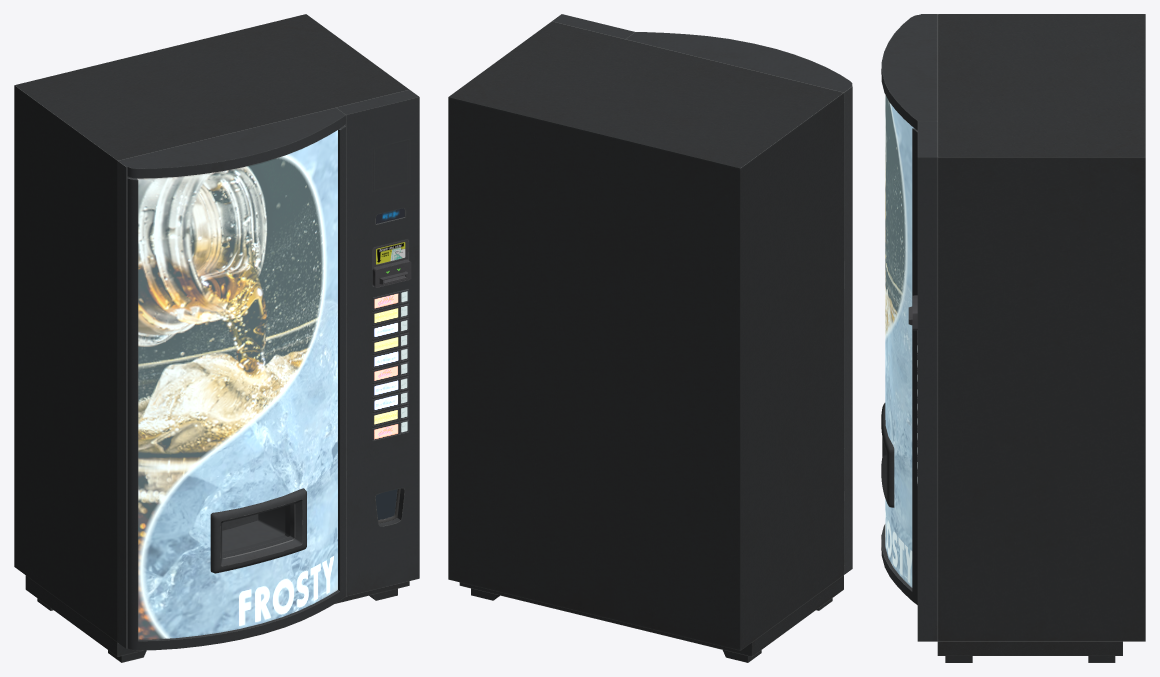
Rendered from vending_machine.glb.
The picture shows the model from 3 angles, left to right: view 1: azimuth 30°, elevation 25°; view 2: azimuth 150°, elevation 25°; view 3: azimuth 270°, elevation 25°; orthographic projection.
Visible parts, largest first — view 1: frontVendorDoor_lp, vendingMachineBody_lp, controlPanel_lp, drinkChute_lp, drinkSelections_lp, base_lp, billAcceptor_lp, changeDoor_lp; view 2: vendingMachineBody_lp, frontVendorDoor_lp, base_lp, controlPanel_lp; view 3: vendingMachineBody_lp, frontVendorDoor_lp, controlPanel_lp, base_lp, drinkChute_lp.
Part boxes in pixels (<box>): frontVendorDoor_lp: <box>117,107,345,650</box>; vendingMachineBody_lp: <box>14,14,408,642</box>; controlPanel_lp: <box>336,89,419,596</box>; drinkChute_lp: <box>210,488,306,573</box>; drinkSelections_lp: <box>372,289,408,440</box>; base_lp: <box>25,575,409,662</box>; billAcceptor_lp: <box>372,239,411,287</box>; changeDoor_lp: <box>375,488,400,523</box>; vendingMachineBody_lp: <box>448,21,843,650</box>; frontVendorDoor_lp: <box>626,32,852,574</box>; base_lp: <box>459,575,843,662</box>; controlPanel_lp: <box>552,14,634,39</box>; vendingMachineBody_lp: <box>937,14,1145,641</box>; frontVendorDoor_lp: <box>881,14,937,604</box>; controlPanel_lp: <box>917,121,937,641</box>; base_lp: <box>937,641,1122,662</box>; drinkChute_lp: <box>881,403,894,507</box>.
Size of the model in its own units: 1.22 by 2.02 by 0.9506.
Materials: 1 (1 with a texture image).
